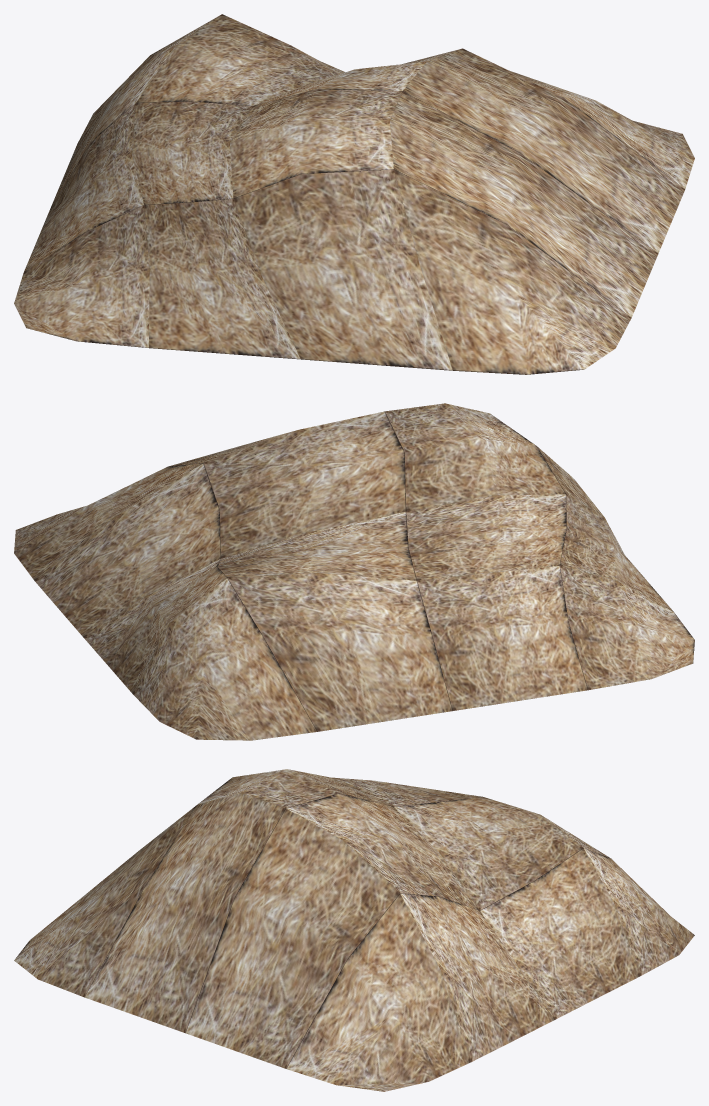
3 renders of one model, top to bottom at view 1: azimuth 30°, elevation 25°; view 2: azimuth 150°, elevation 25°; view 3: azimuth 270°, elevation 25°, orthographic. The views are drawn at different scales.
Visible parts, largest first — view 1: heno1_atlas_granja_0; view 2: heno1_atlas_granja_0; view 3: heno1_atlas_granja_0.
Part boxes in pixels (x1,y1,x2,y2): heno1_atlas_granja_0: (14, 14, 694, 374); heno1_atlas_granja_0: (14, 403, 694, 740); heno1_atlas_granja_0: (14, 769, 694, 1091).
Size of the model in its own units: 6.72 by 1.56 by 6.72.
1 material, 1 textured.
